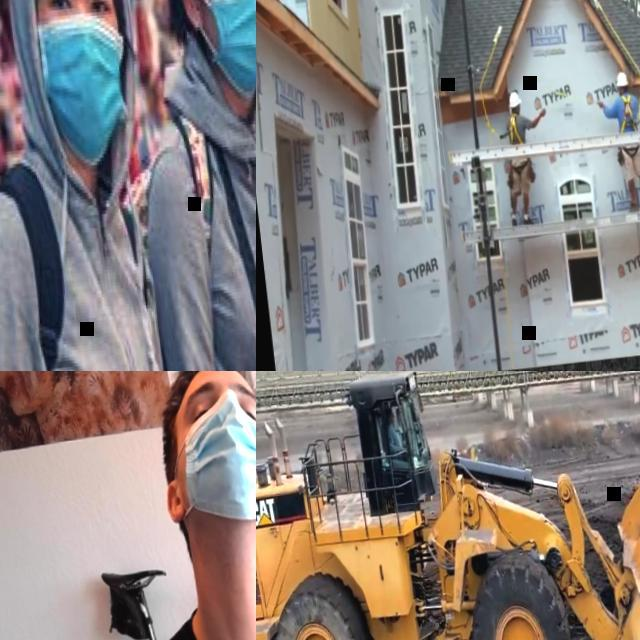helmet: (507, 92, 521, 108), (614, 72, 628, 87)
